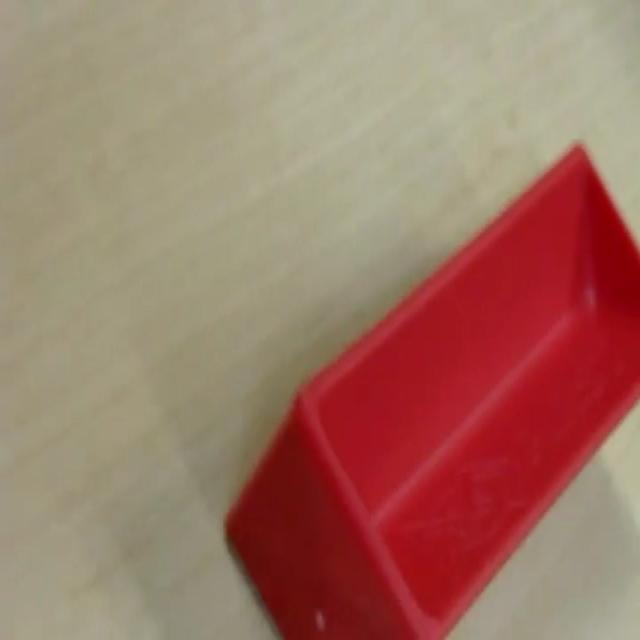red_block: (222, 138, 639, 638)
